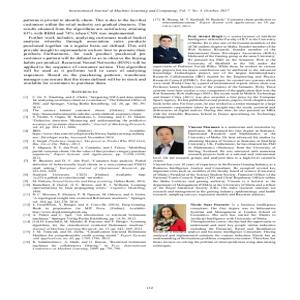image: (150, 31, 186, 65), (150, 124, 186, 156), (149, 203, 188, 232)
text: (17, 16, 148, 254), (152, 65, 277, 120), (151, 156, 279, 198), (186, 33, 281, 65), (187, 124, 278, 157), (190, 203, 279, 229), (152, 15, 276, 30), (150, 233, 280, 247)
